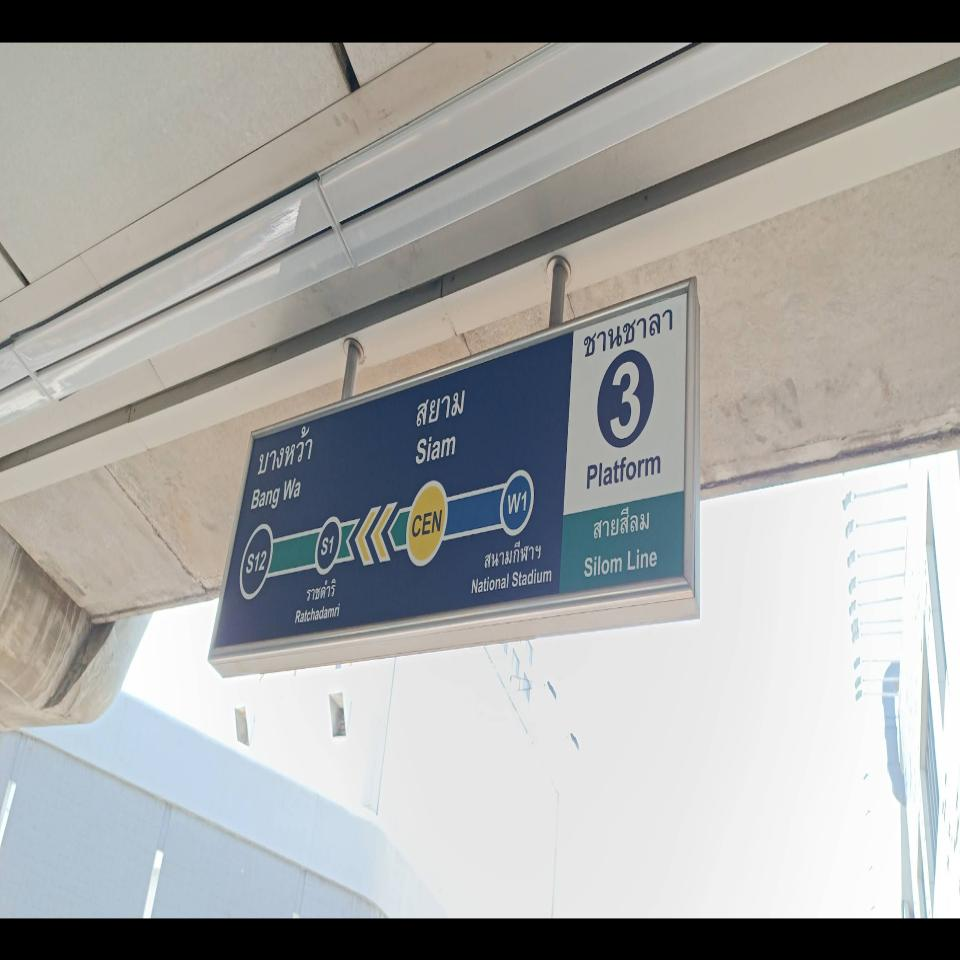Siam: (316, 390, 534, 576)
